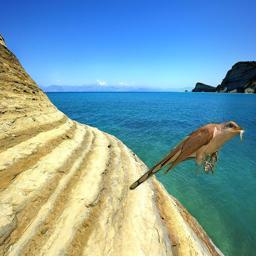Cuckoo: (129, 120, 247, 190)
